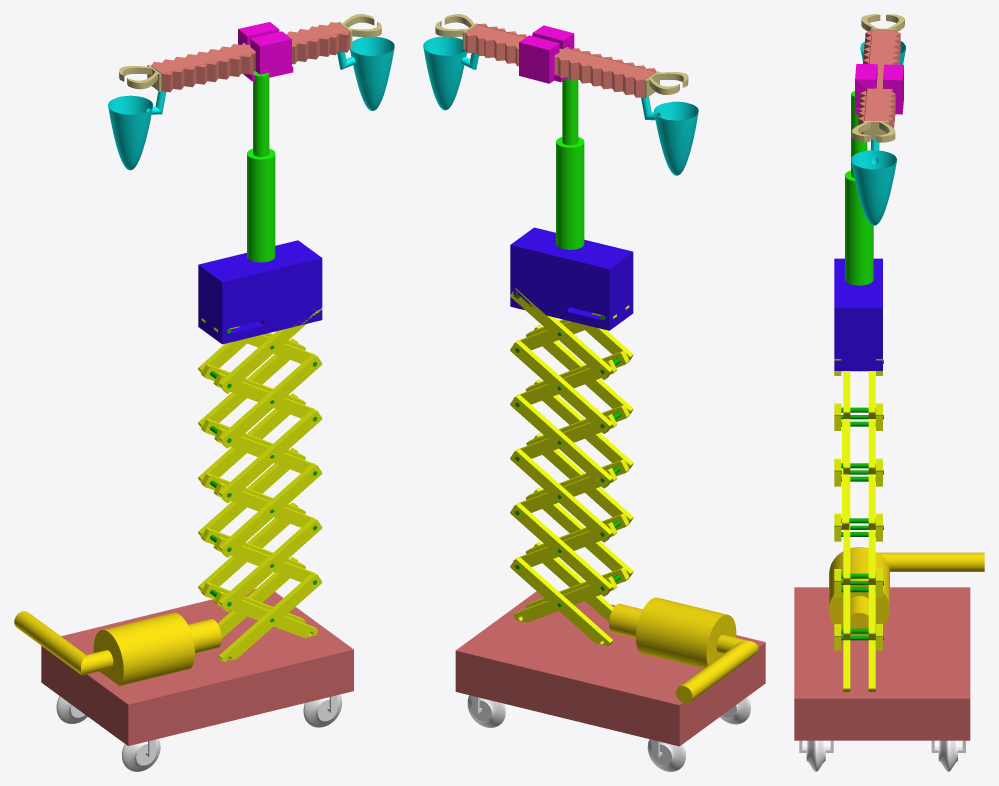
File: jackfruit-0.glb
3 views of the same model, side by side, from view 1: azimuth 30°, elevation 25°; view 2: azimuth 150°, elevation 25°; view 3: azimuth 270°, elevation 25° (orthographic). The views are drawn at different scales.
Parts seen in each view (by area): view 1: material-c185bfef-6dcf-416c-8ed4-4d20e619457c; view 2: material-c185bfef-6dcf-416c-8ed4-4d20e619457c; view 3: material-c185bfef-6dcf-416c-8ed4-4d20e619457c.
Part boxes in pixels (x1,y1,x2,y2): material-c185bfef-6dcf-416c-8ed4-4d20e619457c: (14,14,394,771); material-c185bfef-6dcf-416c-8ed4-4d20e619457c: (423,14,765,771); material-c185bfef-6dcf-416c-8ed4-4d20e619457c: (794,14,984,771).
Bounding box in the file's own units: 122 × 244 × 61.5.
Materials: 2 (2 with a texture image).
